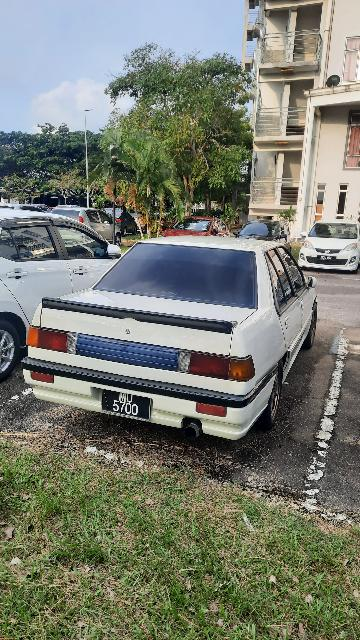License_Plate: (96, 389, 157, 426)
car: (34, 225, 325, 441), (2, 205, 129, 377), (304, 215, 360, 289)
